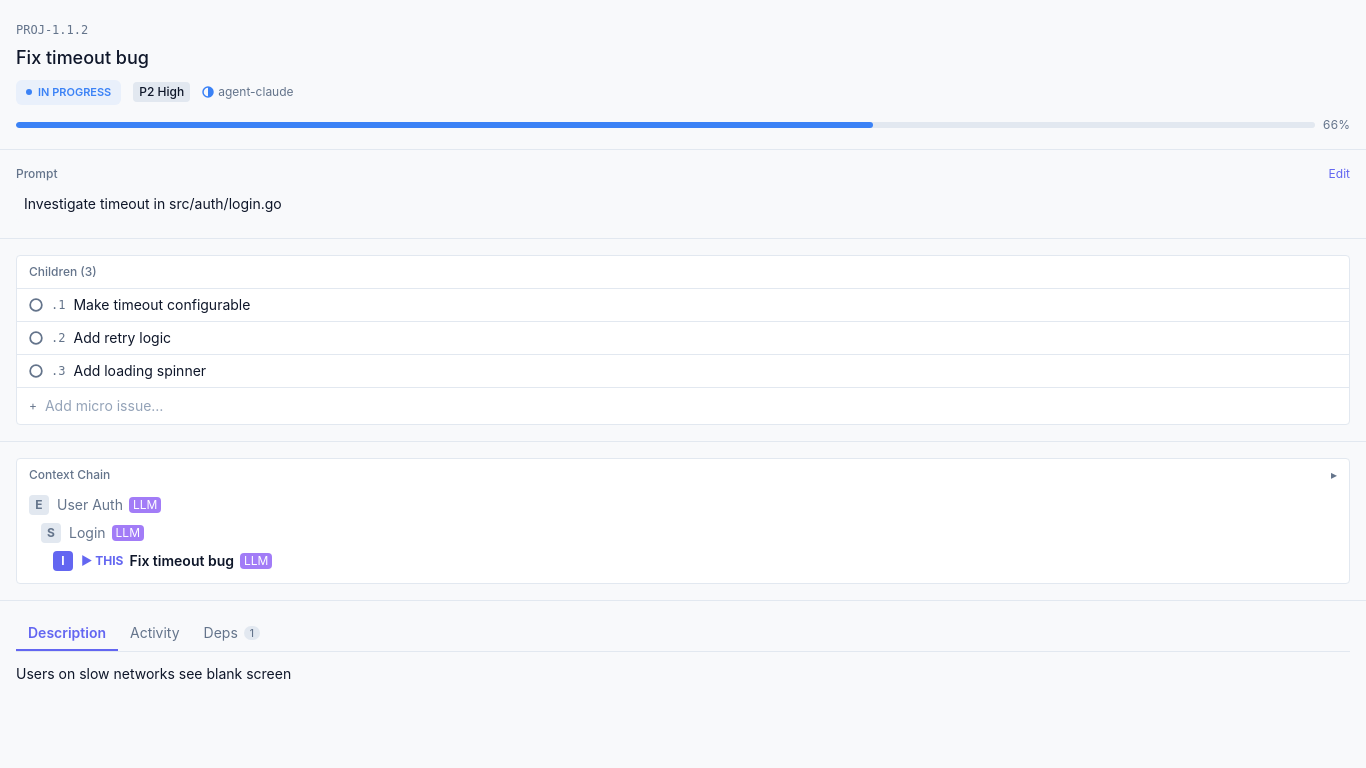
Test case: NodeDetail › shows dependencies when present
Click the button with test id "tab-deps". click: [232, 634]
box: x1=192 y1=616 x2=272 y2=650
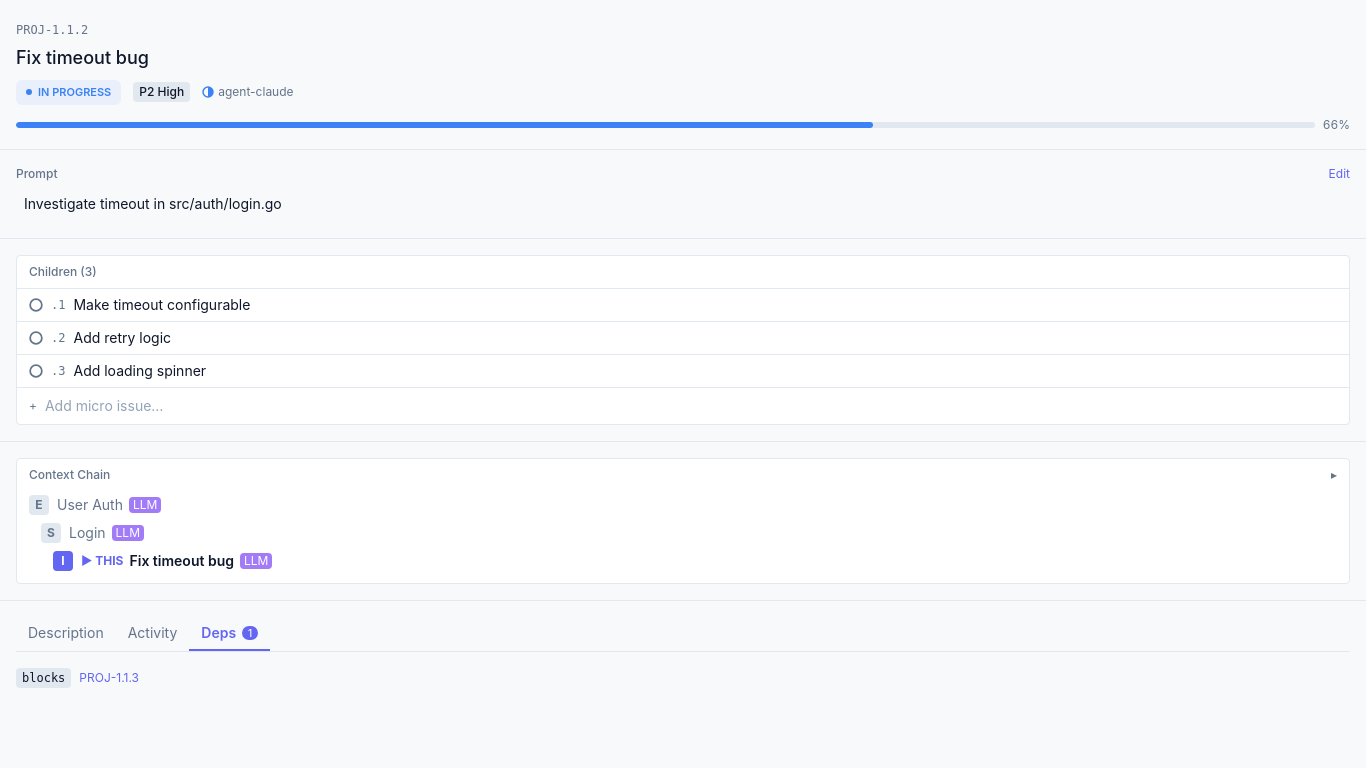
Expected: the element with test id "dep-item" is shown, x1=16 y1=668 x2=139 y2=688
Expected: the text "blocks" is shown, x1=16 y1=668 x2=71 y2=688
